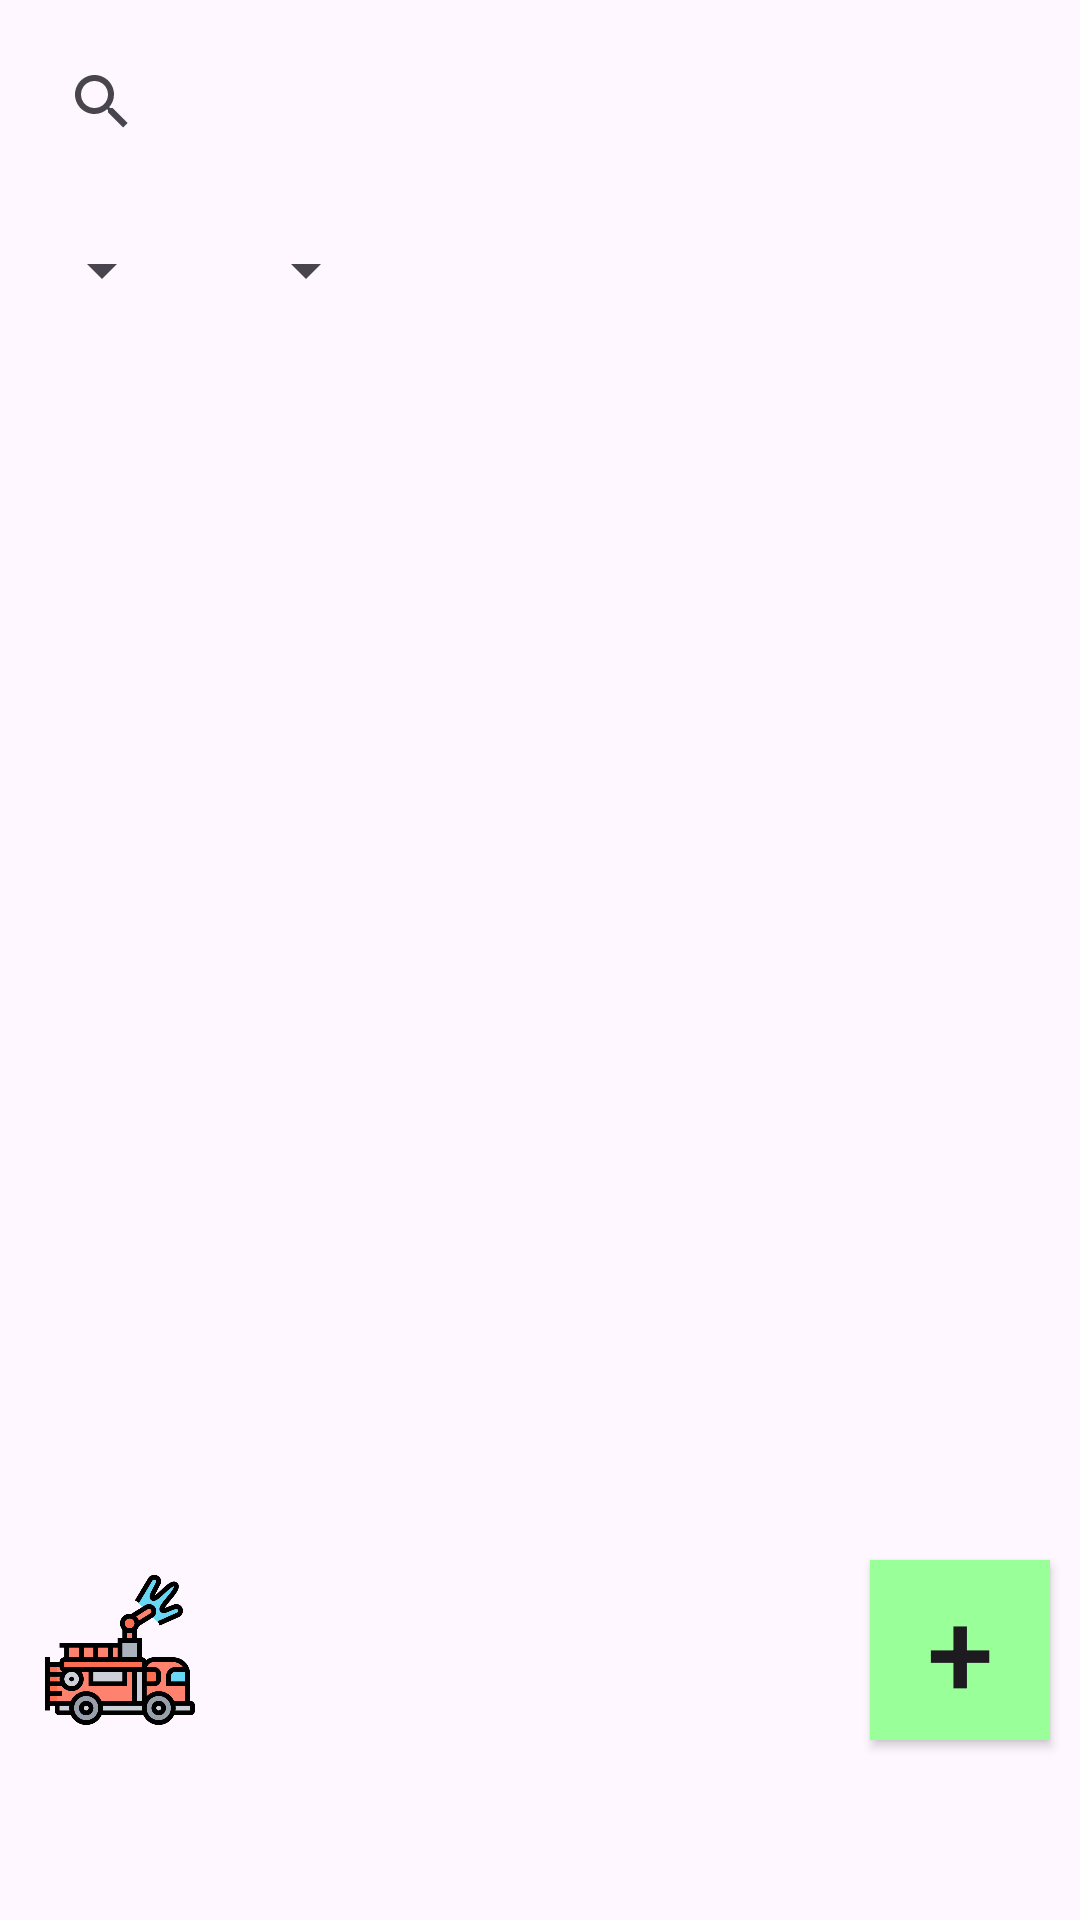

Icon click points for this 1080 × 1920 phone screenshot, format (x,y):
watercar: (120,1650)
